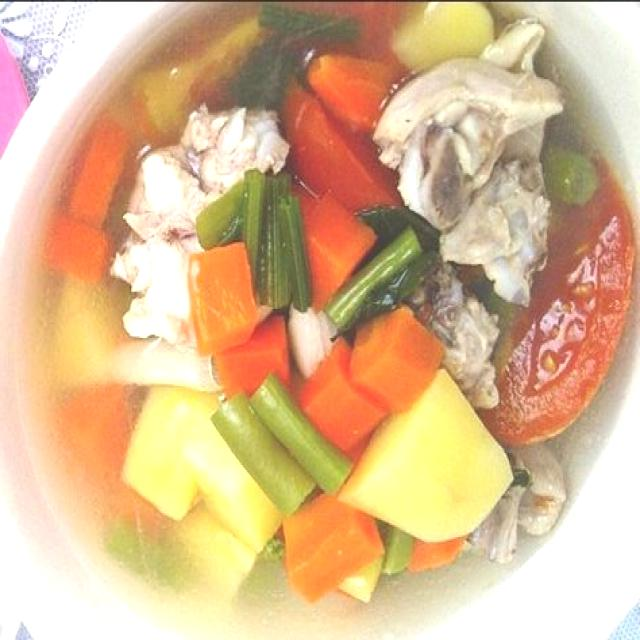sop: (0, 0, 640, 640)
